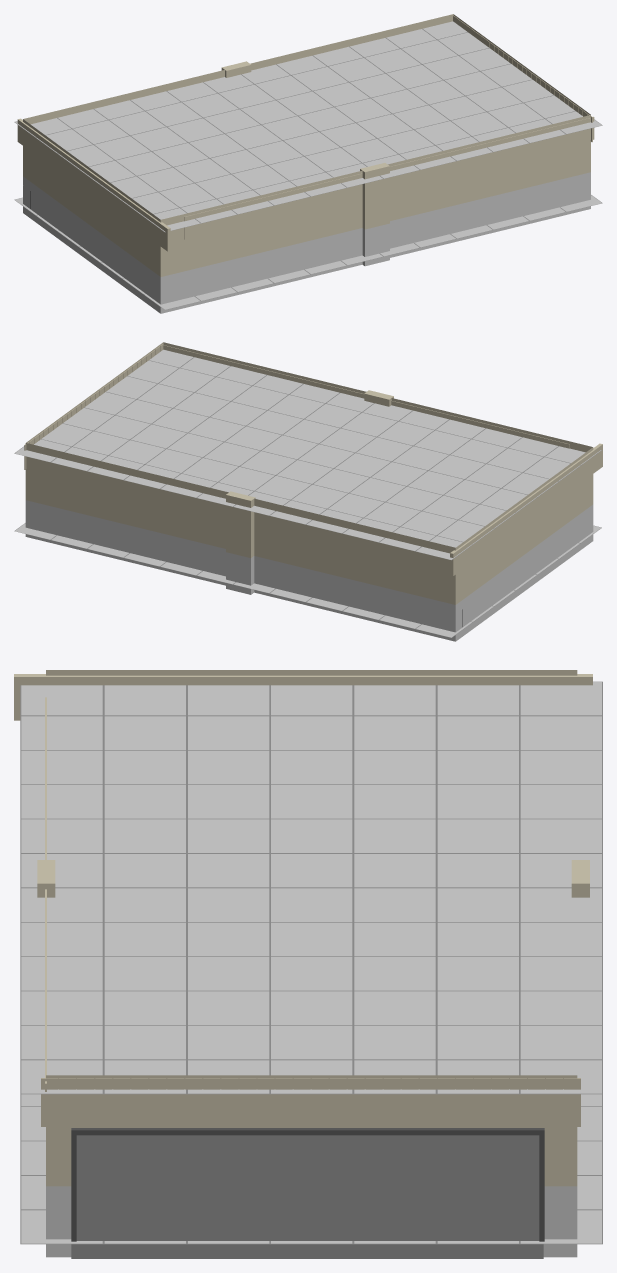
File: E lib 2.fbx
3 views of the same model, one above another, from view 1: azimuth 30°, elevation 25°; view 2: azimuth 150°, elevation 25°; view 3: azimuth 270°, elevation 25° (orthographic). The views are drawn at different scales.
Parts seen in each view (by area): view 1: Plane.004; view 2: Plane.004; view 3: Plane.004.
Part boxes in pixels (x1,y1,x2,y2): Plane.004: (14, 14, 602, 313); Plane.004: (14, 342, 602, 641); Plane.004: (14, 670, 602, 1258).
Size of the model in its own units: 3791 by 778 by 2287.
